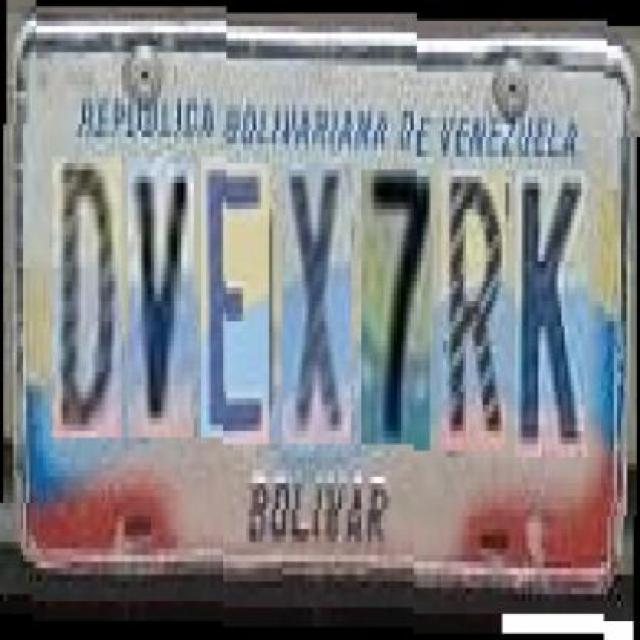7: (361, 163, 430, 439)
d: (52, 156, 121, 438)
e: (200, 156, 269, 438)
k: (515, 157, 588, 445)
r: (440, 156, 506, 438)
v: (128, 156, 194, 438)
x: (282, 156, 351, 438)
